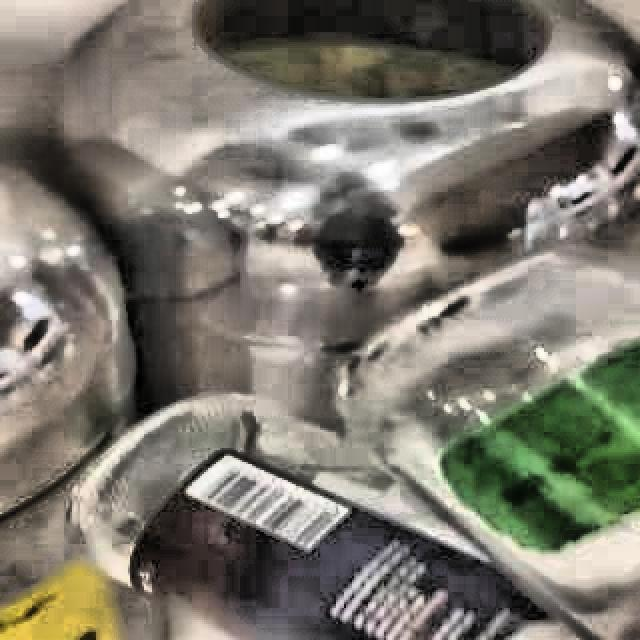glass: (80, 251, 640, 640)
